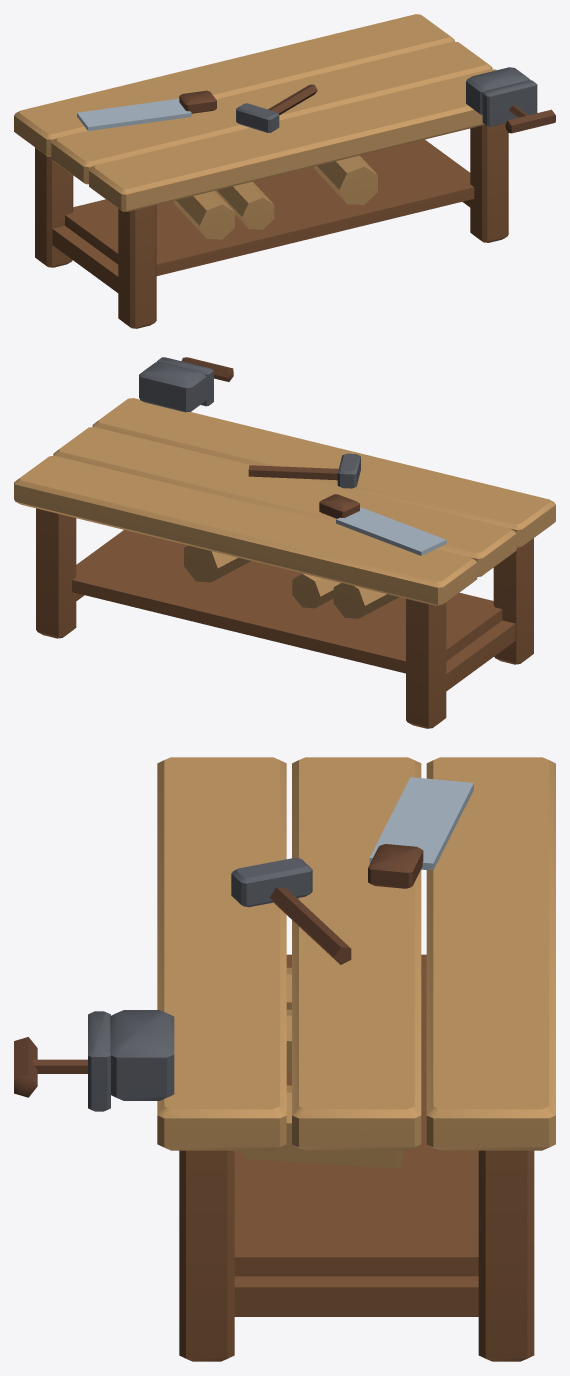
Rendered from workbench.glb.
The picture shows the model from 3 angles, top to bottom: view 1: azimuth 30°, elevation 25°; view 2: azimuth 150°, elevation 25°; view 3: azimuth 270°, elevation 25°; orthographic projection. The views are drawn at different scales.
Parts seen in each view (by area): view 1: workbench; view 2: workbench; view 3: workbench.
Part boxes in pixels (<box>): workbench: <box>14,14,555,328</box>; workbench: <box>14,357,555,728</box>; workbench: <box>14,757,555,1361</box>.
Size of the model in its own units: 1.3 by 0.535 by 0.8322.
